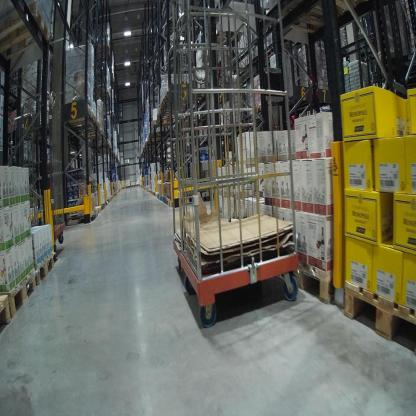pallet: (344, 274, 414, 351), (264, 2, 359, 40), (0, 1, 52, 64), (290, 256, 341, 311), (2, 266, 38, 322), (36, 247, 55, 291), (63, 102, 91, 124), (0, 292, 13, 336), (159, 98, 199, 112), (152, 113, 191, 127), (164, 89, 201, 103), (67, 111, 95, 126), (158, 106, 186, 120), (80, 128, 106, 142), (77, 116, 98, 132)
